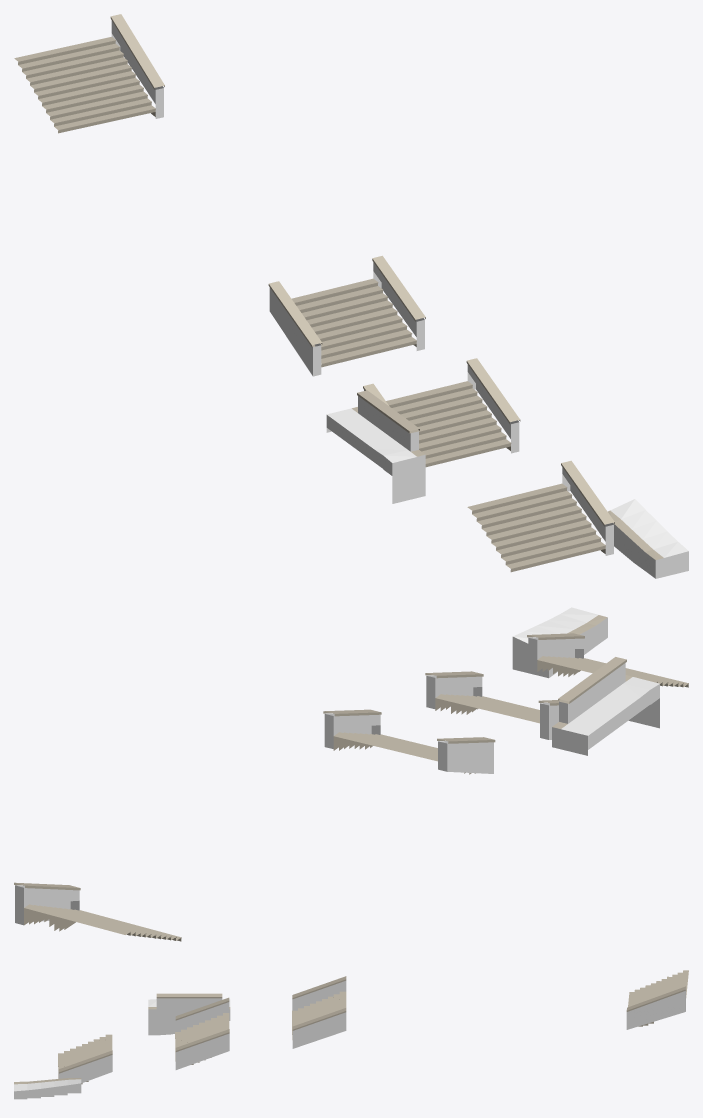
The model's file is SM_BM_BC_Works_2_1.glb.
3 renders of one model, top to bottom at view 1: azimuth 30°, elevation 25°; view 2: azimuth 150°, elevation 25°; view 3: azimuth 270°, elevation 25°, orthographic. The views are drawn at different scales.
Visible parts, largest first — view 1: SM_BM_BC_Works_2_1; view 2: SM_BM_BC_Works_2_1; view 3: SM_BM_BC_Works_2_1.
Boxes of the visible parts, left/top/right/bottom form: SM_BM_BC_Works_2_1: left=14, top=14, right=688, bottom=578; SM_BM_BC_Works_2_1: left=14, top=607, right=688, bottom=941; SM_BM_BC_Works_2_1: left=14, top=970, right=688, bottom=1099.
Bounding box in the file's own units: 9.1 × 7.8 × 45.22.
